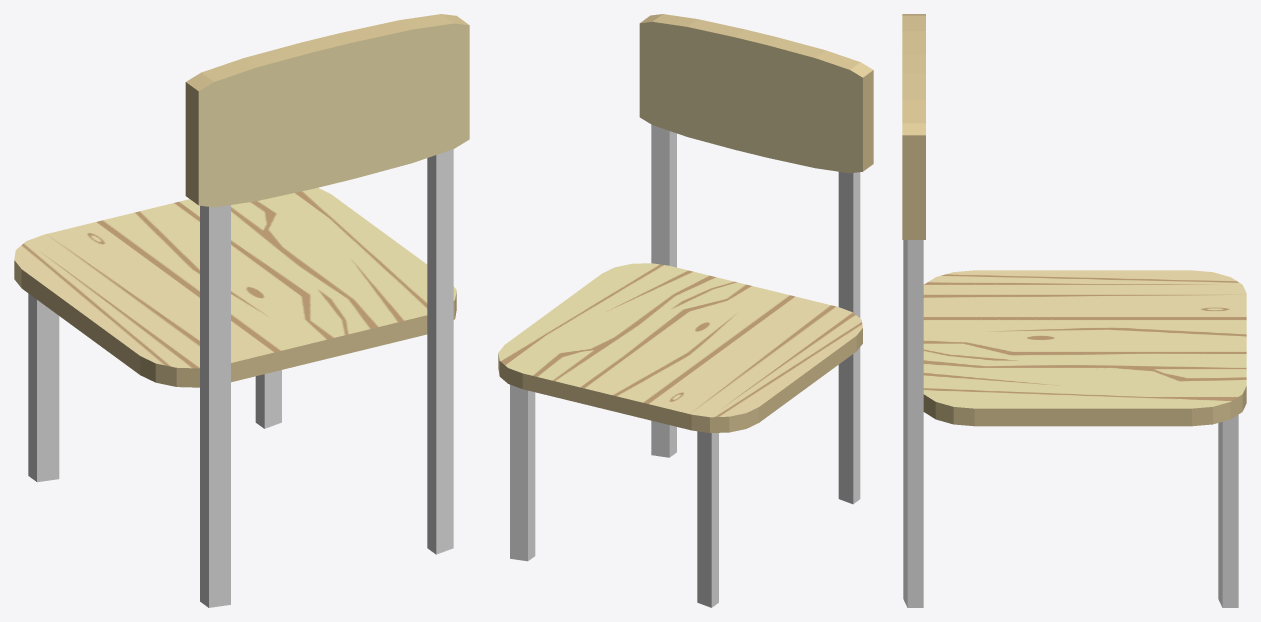
The model's file is kursi murid.fbx.
3 views of the same model, side by side, from view 1: azimuth 30°, elevation 25°; view 2: azimuth 150°, elevation 25°; view 3: azimuth 270°, elevation 25° (orthographic). The views are drawn at different scales.
Visible parts, largest first — view 1: kursi.016; view 2: kursi.016; view 3: kursi.016.
Part boxes in pixels (x1=…): kursi.016: x1=14, y1=14, x2=469, y2=607; kursi.016: x1=498, y1=14, x2=873, y2=607; kursi.016: x1=902, y1=14, x2=1246, y2=607.
Bounding box in the file's own units: 311 × 513 × 328.
